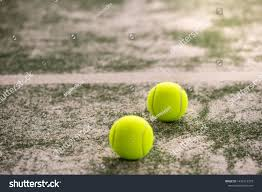tennis_ball: (109, 115, 154, 160), (146, 81, 189, 123)
